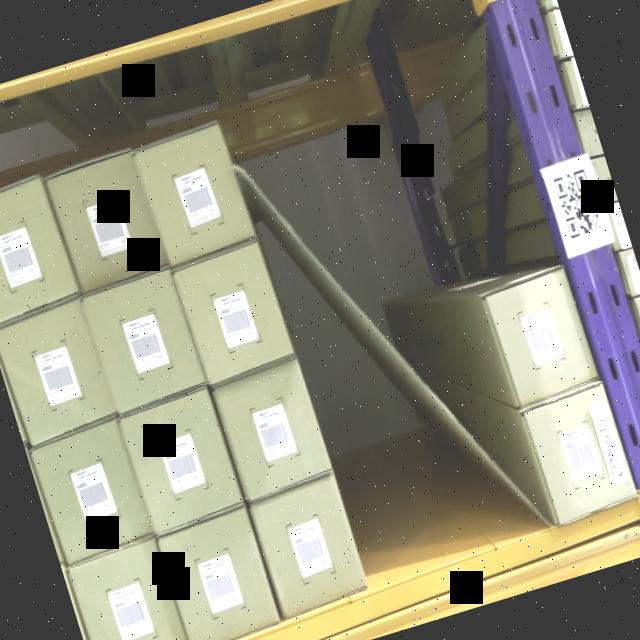box: (134, 127, 256, 266), (84, 276, 205, 412), (46, 152, 166, 289), (122, 395, 242, 531), (33, 426, 152, 562), (156, 509, 278, 640), (251, 481, 369, 616), (0, 309, 115, 445), (215, 364, 332, 496), (174, 248, 292, 376), (528, 394, 634, 515), (490, 276, 592, 399), (68, 543, 187, 640), (0, 180, 75, 320)
